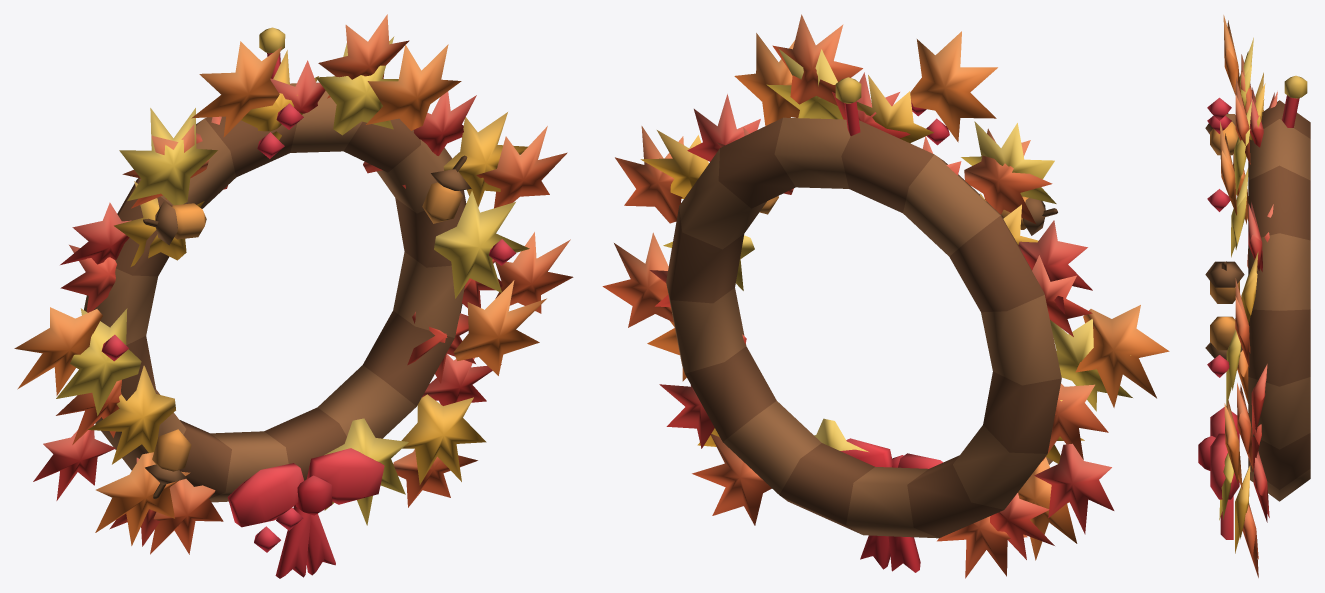
File: furn-mapleWreath.glb
The picture shows the model from 3 angles, left to right: view 1: azimuth 30°, elevation 25°; view 2: azimuth 150°, elevation 25°; view 3: azimuth 270°, elevation 25°; orthographic projection. The views are drawn at different scales.
Visible parts, largest first — view 1: furn-mapleWreath; view 2: furn-mapleWreath; view 3: furn-mapleWreath.
Boxes of the visible parts, x1=… form: furn-mapleWreath: x1=14, y1=14, x2=573, y2=578; furn-mapleWreath: x1=602, y1=14, x2=1169, y2=578; furn-mapleWreath: x1=1198, y1=15, x2=1310, y2=577.
Size of the model in its own units: 0.5265 by 0.4935 by 0.103.
